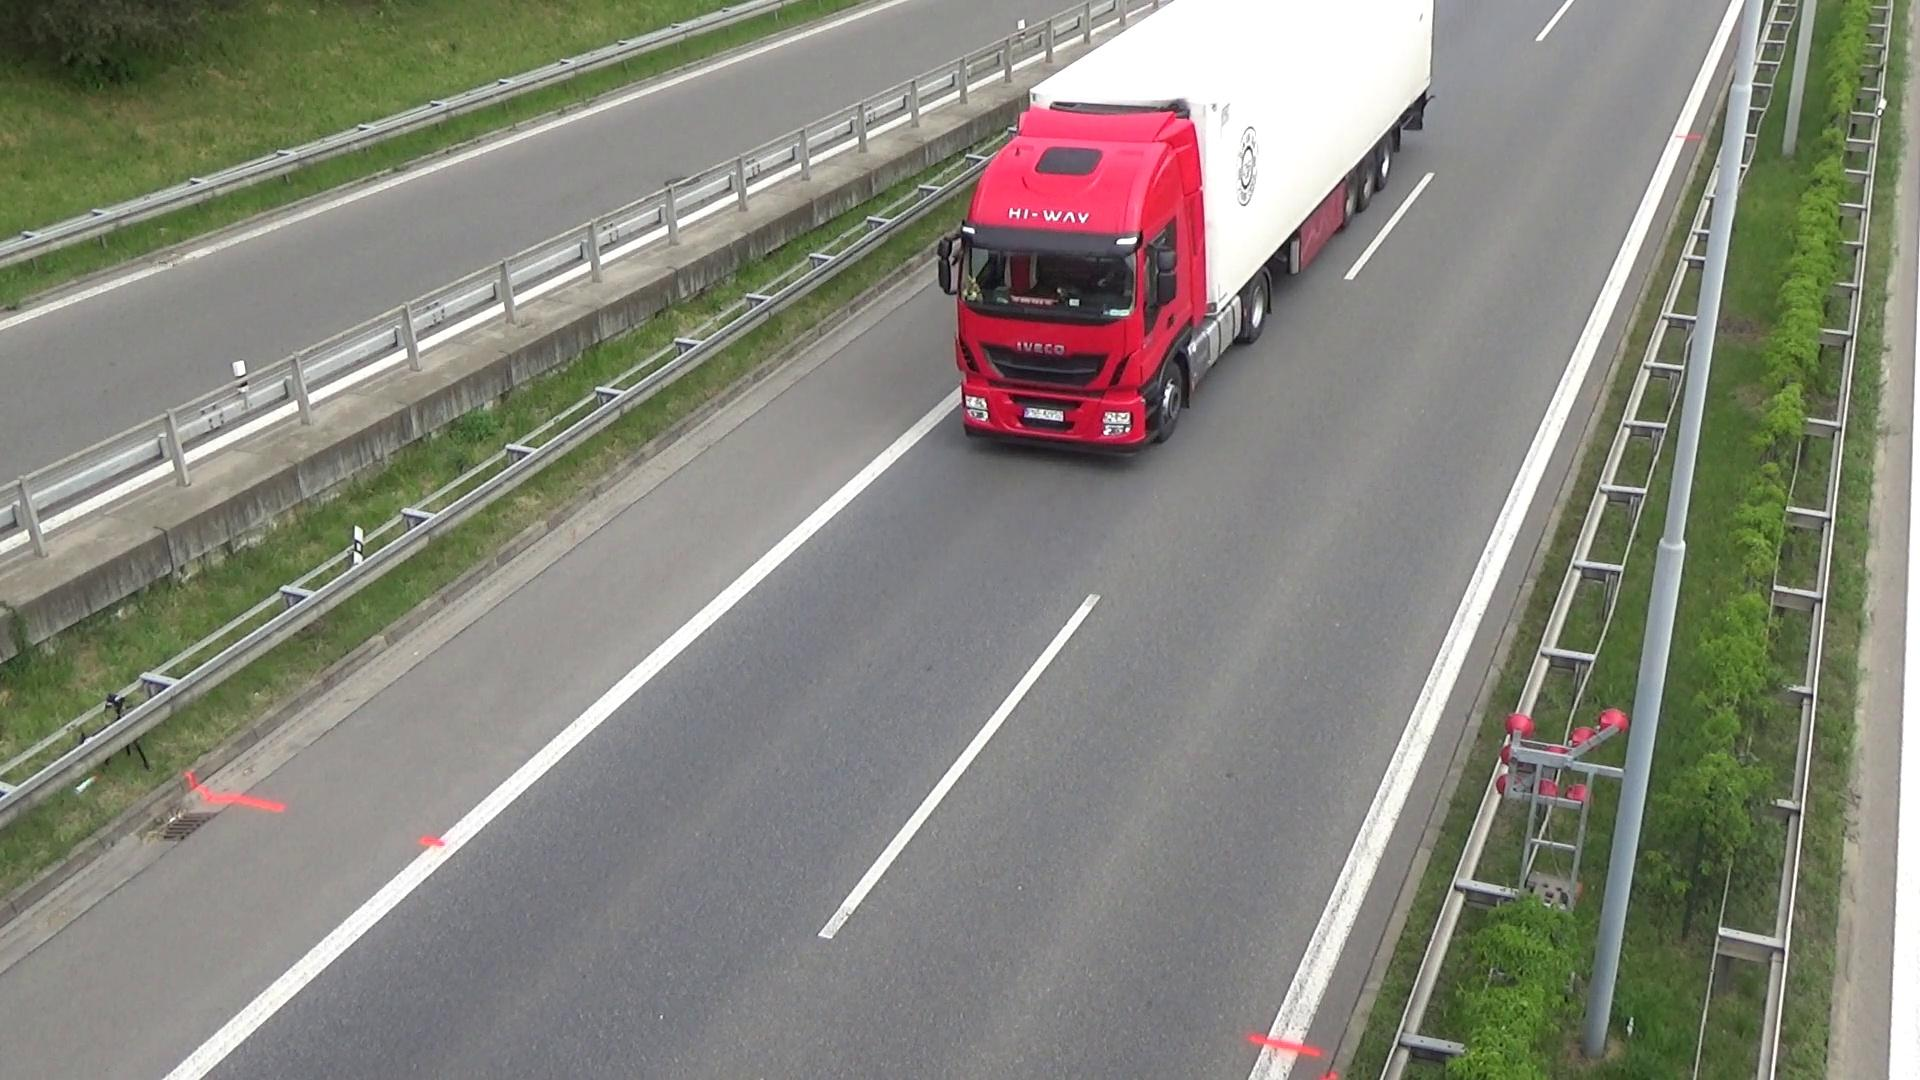Truck: (922, 0, 1440, 469)
